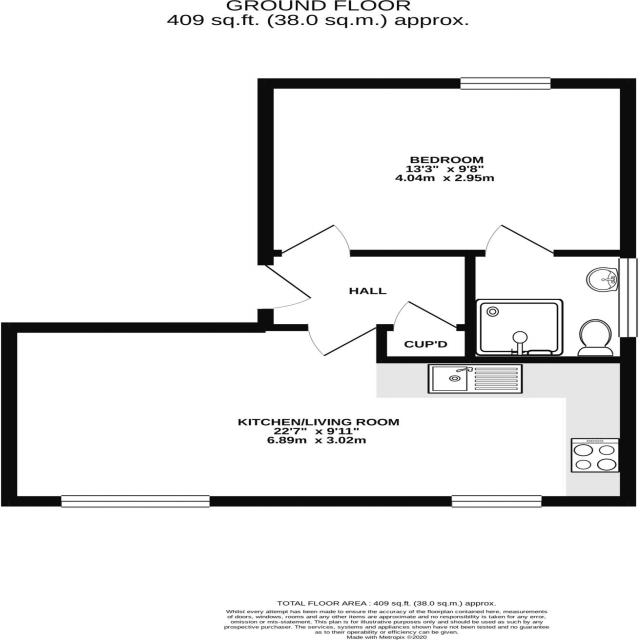DOOR: (257, 264, 315, 311), (483, 222, 556, 257), (279, 222, 351, 257), (307, 324, 378, 358)
ROOM: (0, 322, 637, 508), (257, 77, 637, 256)
WINDOW: (60, 495, 211, 508), (617, 257, 639, 339), (459, 76, 552, 91), (449, 495, 544, 508)
